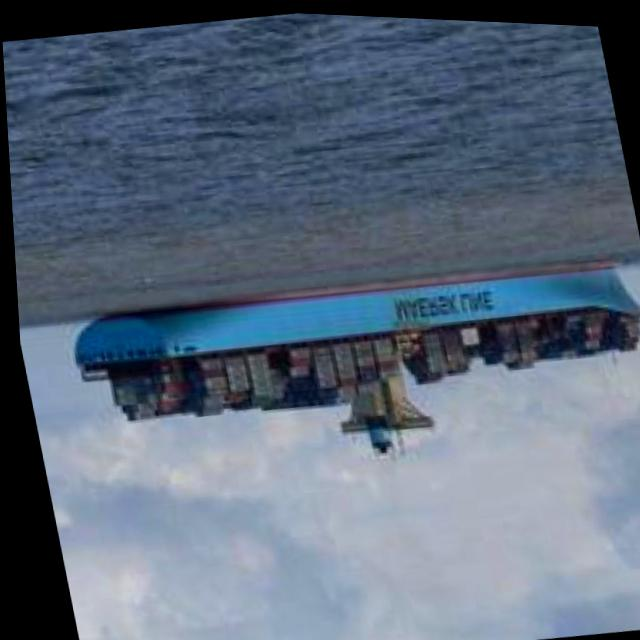ship2: (66, 253, 640, 457)
